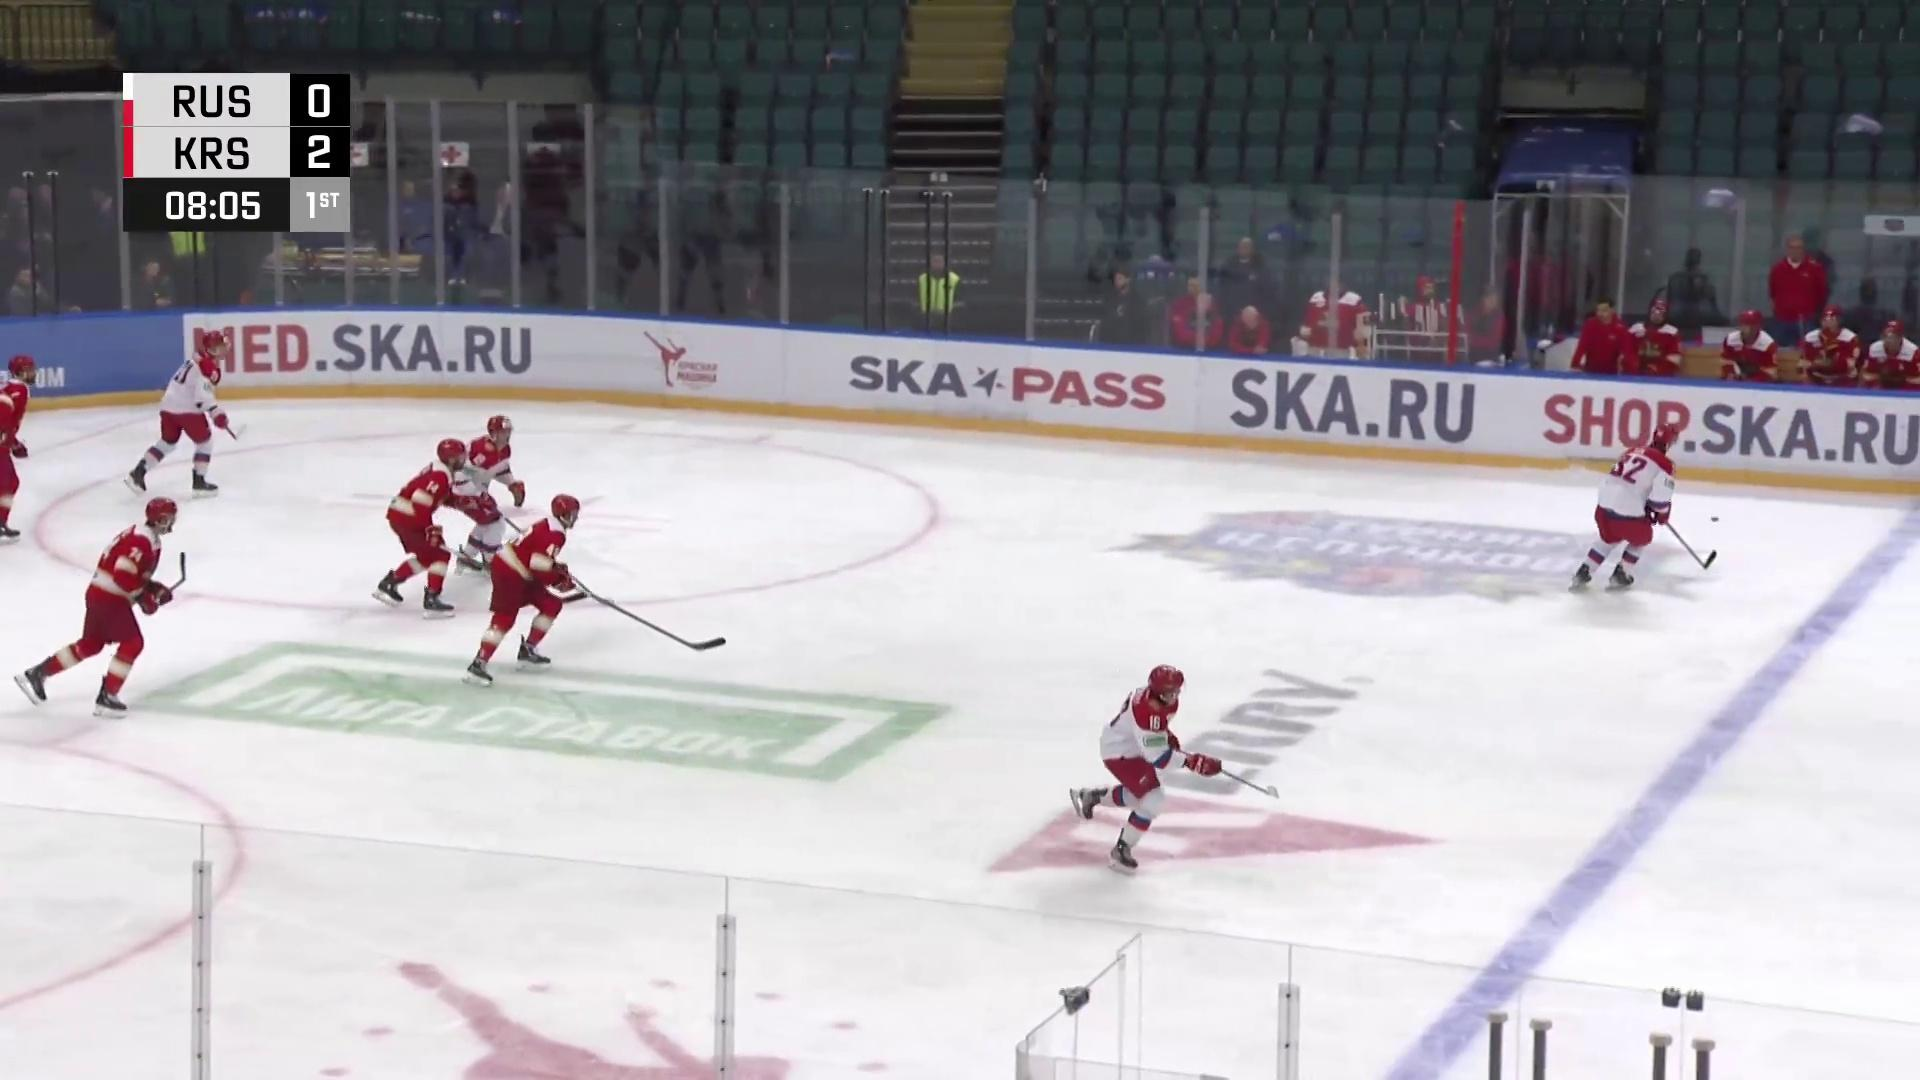ball: (1709, 514, 1721, 525)
